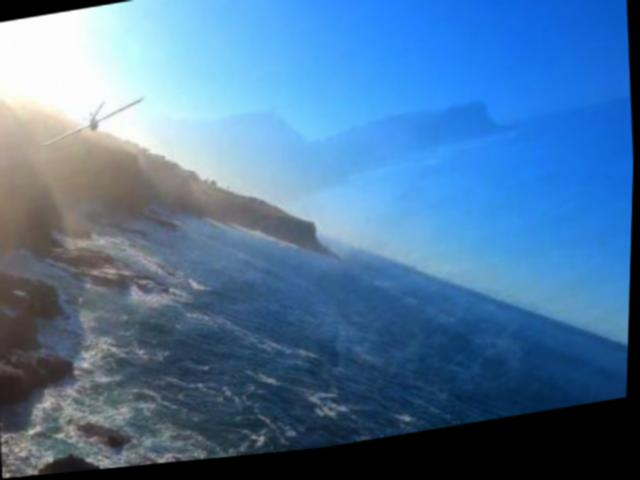uav: (42, 99, 148, 151)
